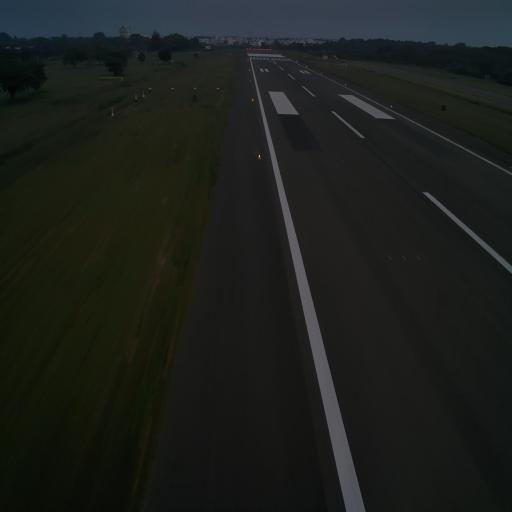off: (399, 252, 407, 264), (387, 252, 394, 262), (416, 253, 422, 262), (392, 160, 397, 166), (341, 157, 345, 164), (332, 157, 337, 162), (325, 157, 329, 163)
on: (256, 153, 262, 162)
